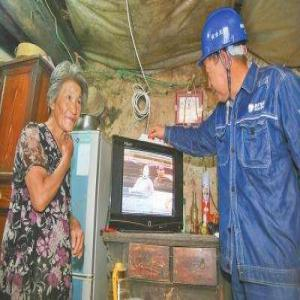blue: (199, 10, 253, 105)
none: (45, 62, 88, 134)
